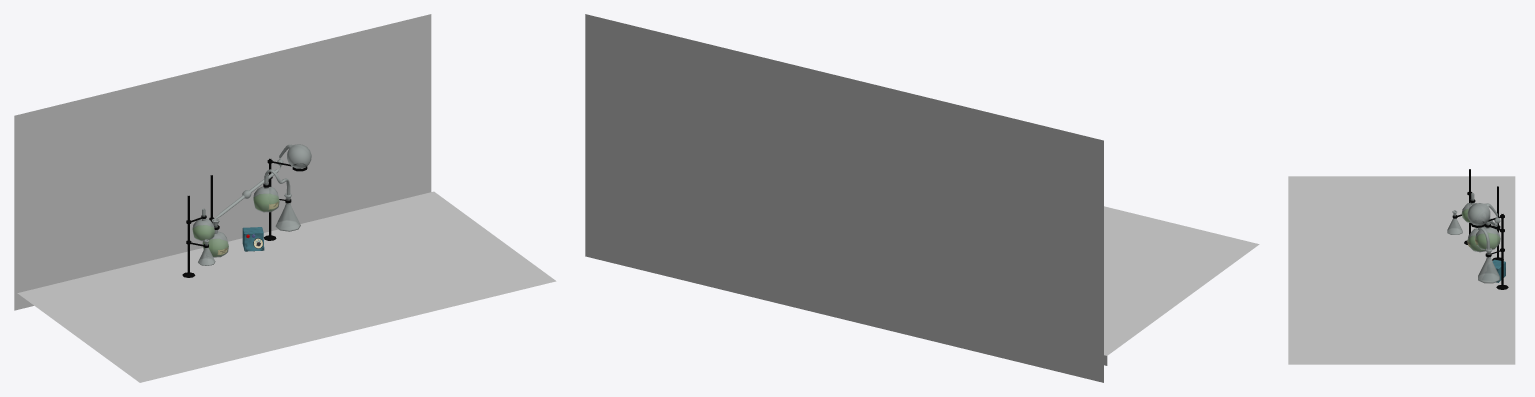
Rendered from asset Set v01.fbx.
3 renders of one model, left to right at view 1: azimuth 30°, elevation 25°; view 2: azimuth 150°, elevation 25°; view 3: azimuth 270°, elevation 25°, orthographic. The views are drawn at different scales.
Parts seen in each view (by area): view 1: go_sat, polySurface1, go_poringBickre01, go_masheen01, asset__BunsonAndBeeckrs_02:go_bunson07, go_bunson012; view 2: go_sat; view 3: go_sat, polySurface1, go_poringBickre01, go_handels01, asset__BunsonAndBeeckrs_02:go_bicker01.
Part boxes in pixels (bbox=[...]): go_sat: bbox=[14, 14, 556, 382]; polySurface1: bbox=[253, 169, 300, 231]; go_poringBickre01: bbox=[215, 144, 311, 218]; go_masheen01: bbox=[242, 227, 264, 251]; asset__BunsonAndBeeckrs_02:go_bunson07: bbox=[192, 208, 214, 241]; go_bunson012: bbox=[202, 218, 228, 257]; go_sat: bbox=[585, 14, 1259, 382]; go_sat: bbox=[1288, 176, 1515, 364]; polySurface1: bbox=[1474, 218, 1500, 283]; go_poringBickre01: bbox=[1467, 203, 1500, 226]; go_handels01: bbox=[1470, 214, 1508, 289]; asset__BunsonAndBeeckrs_02:go_bicker01: bbox=[1447, 210, 1462, 234].
Size of the model in its own units: 27.25 by 12.17 by 14.2.
